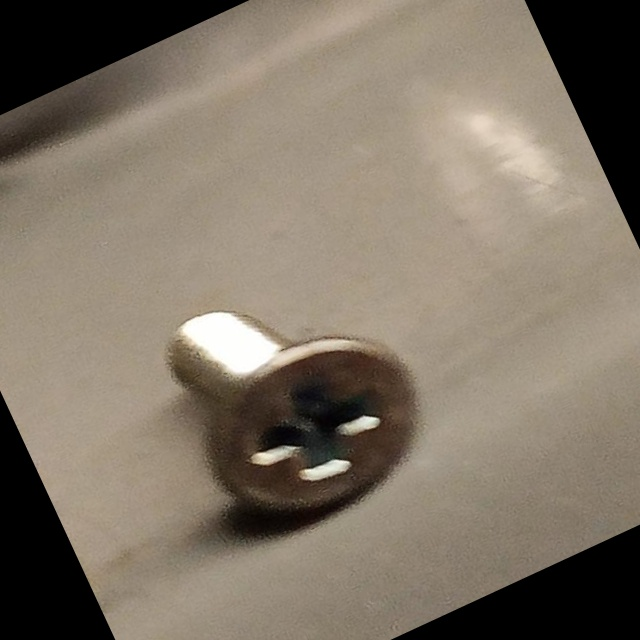phillips: (178, 303, 455, 551)
